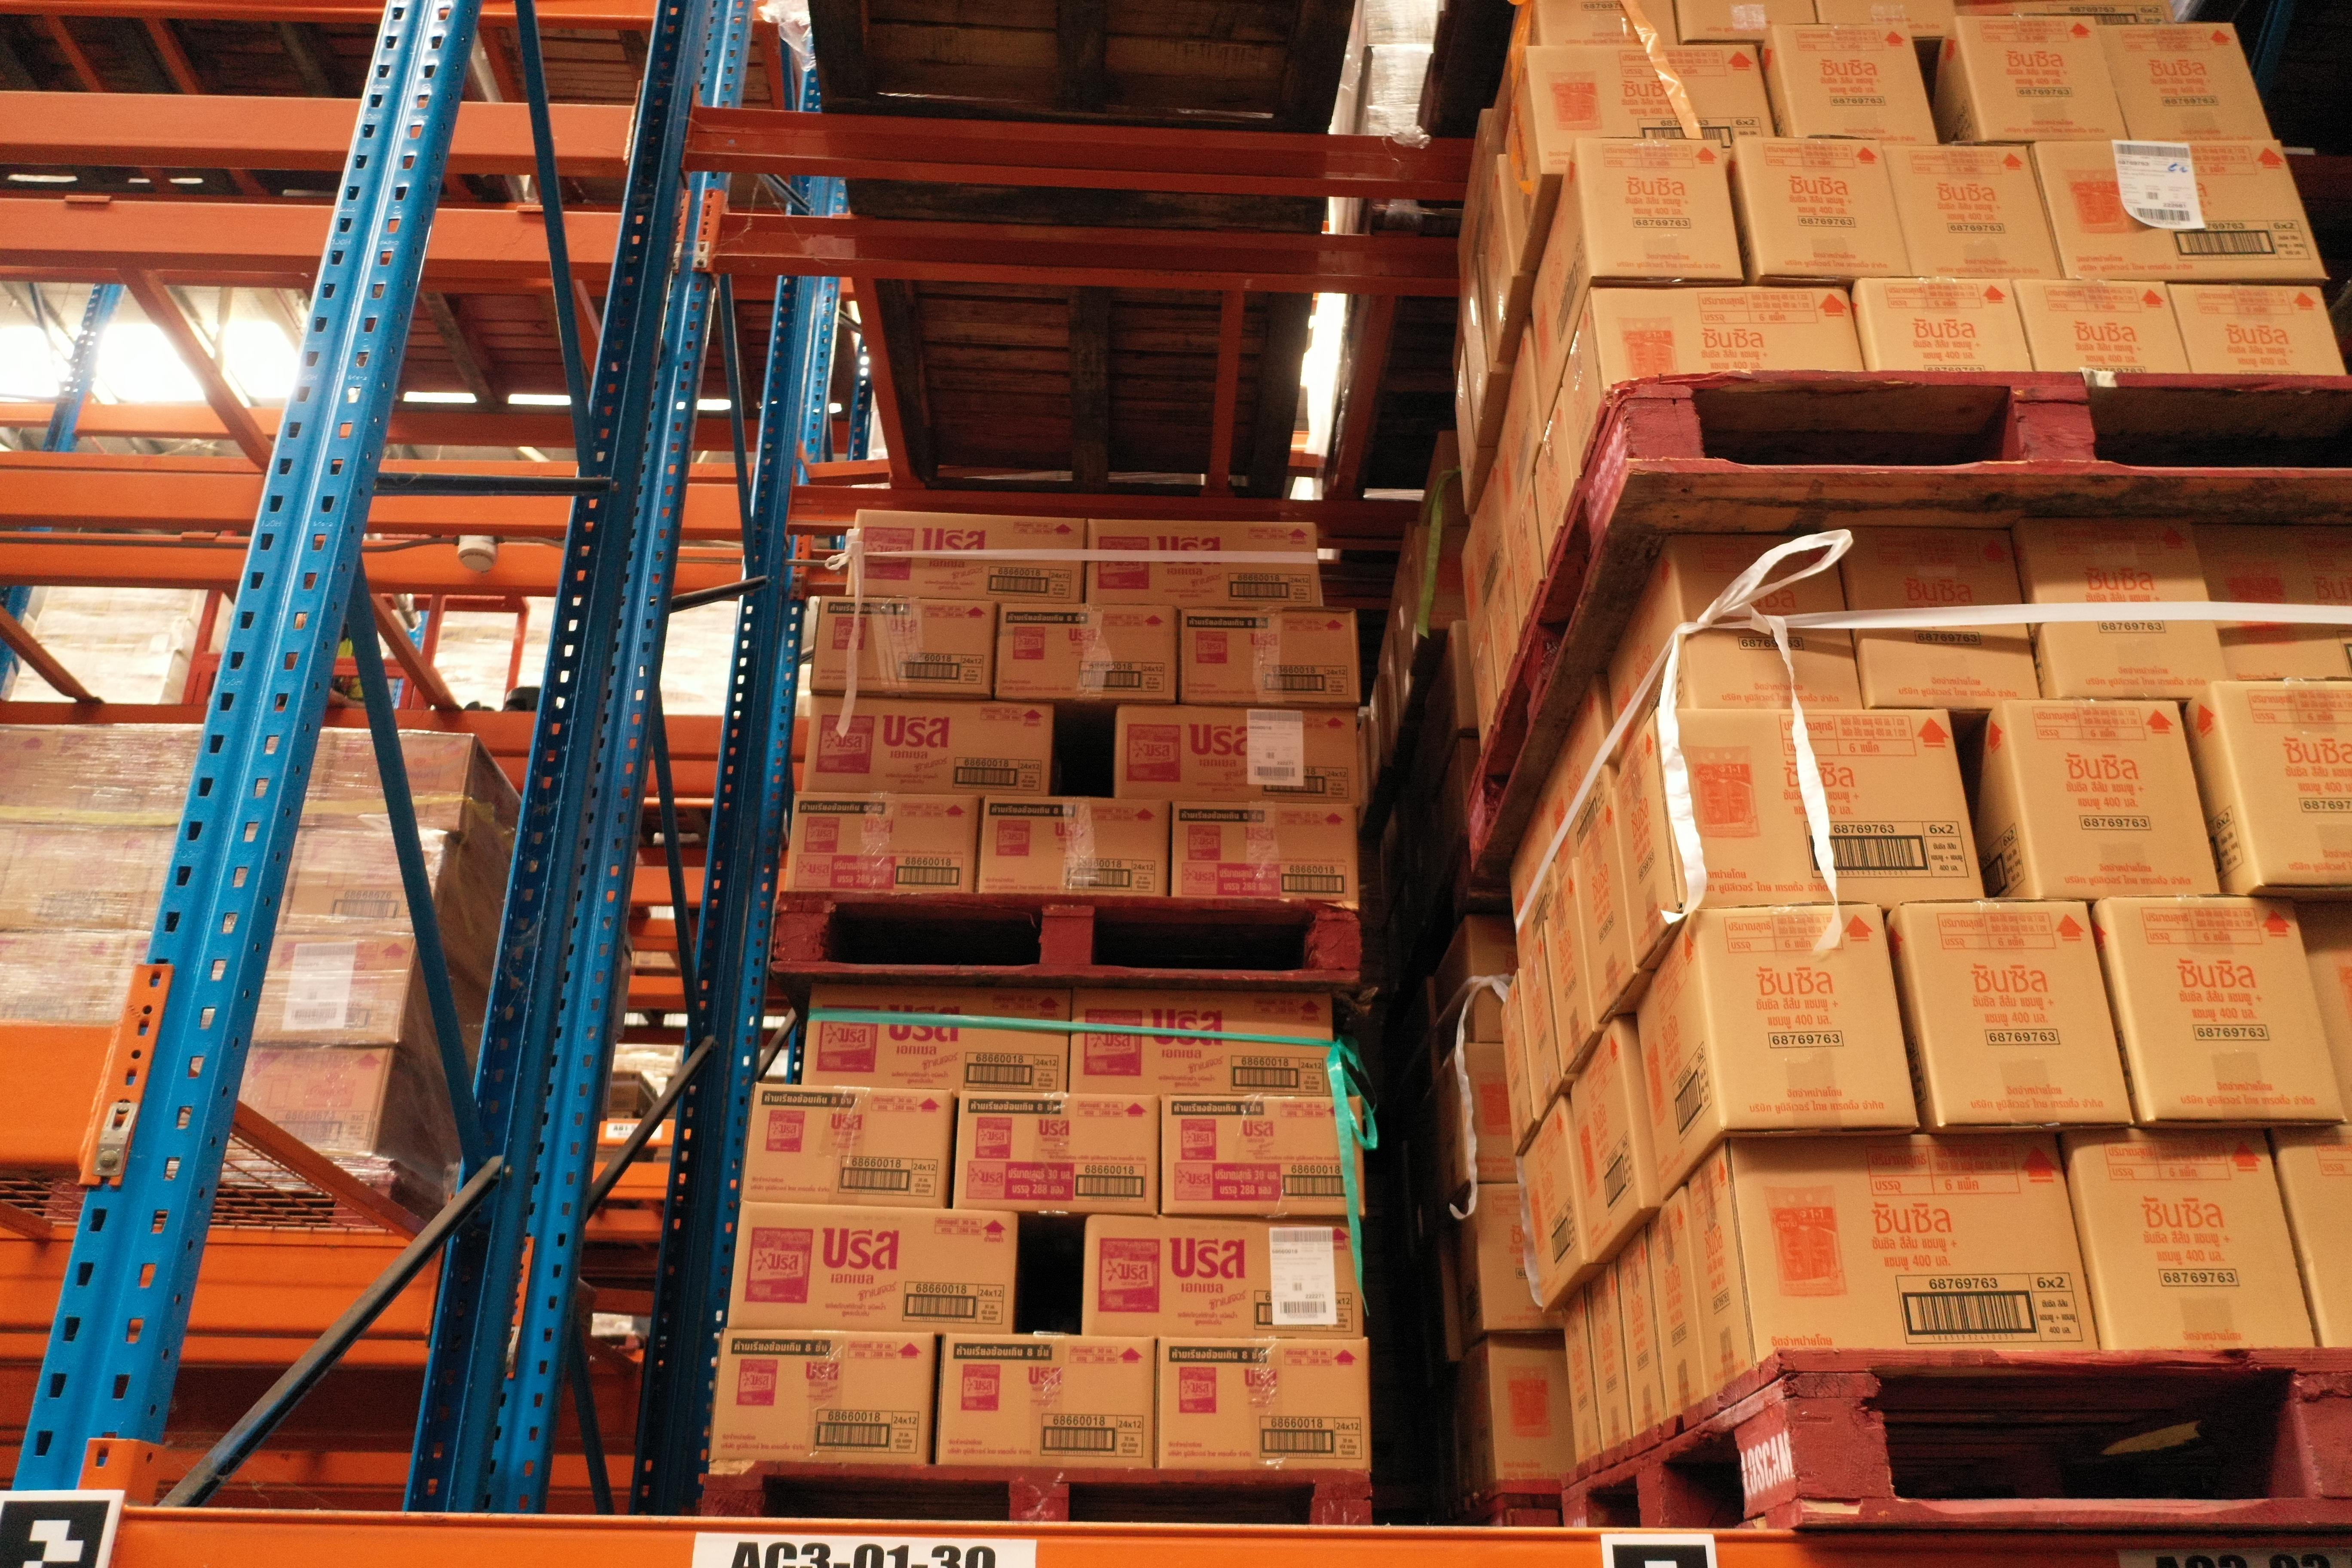-: (1724, 1132, 2100, 1368), (1655, 707, 1986, 920), (2063, 1127, 2319, 1349), (1895, 896, 2137, 1130), (2102, 894, 2345, 1122), (1694, 903, 1916, 1134), (2000, 696, 2215, 906), (2032, 138, 2327, 282), (2025, 527, 2231, 703), (1837, 534, 2042, 709), (1664, 535, 1865, 709), (1524, 44, 1778, 173), (1592, 282, 1864, 395), (2208, 679, 2352, 887), (1734, 131, 1914, 282), (2186, 520, 2352, 681), (1573, 135, 1743, 283), (1885, 142, 2063, 282), (1951, 12, 2130, 150), (1769, 21, 1941, 149), (2091, 24, 2268, 142), (2014, 275, 2193, 376), (1864, 275, 2033, 380), (2271, 1129, 2352, 1347), (2166, 280, 2348, 376), (1671, 0, 1820, 47)
box: (726, 1199, 1020, 1337), (1081, 1209, 1363, 1340), (800, 980, 1073, 1095), (709, 1328, 934, 1466), (936, 1332, 1157, 1472), (1066, 990, 1332, 1101), (1153, 1337, 1367, 1468), (801, 695, 1053, 803), (1115, 698, 1360, 808), (1160, 1090, 1367, 1218), (744, 1081, 954, 1206), (952, 1092, 1160, 1216), (849, 507, 1090, 611), (1087, 516, 1321, 616), (976, 793, 1176, 901), (784, 791, 983, 898), (227, 1043, 392, 1165), (992, 600, 1178, 709), (1169, 803, 1360, 908), (282, 822, 446, 943), (808, 591, 997, 696), (1176, 602, 1358, 707), (26, 724, 196, 833), (255, 931, 416, 1045), (0, 826, 166, 934), (311, 726, 474, 829), (0, 931, 129, 1034)
